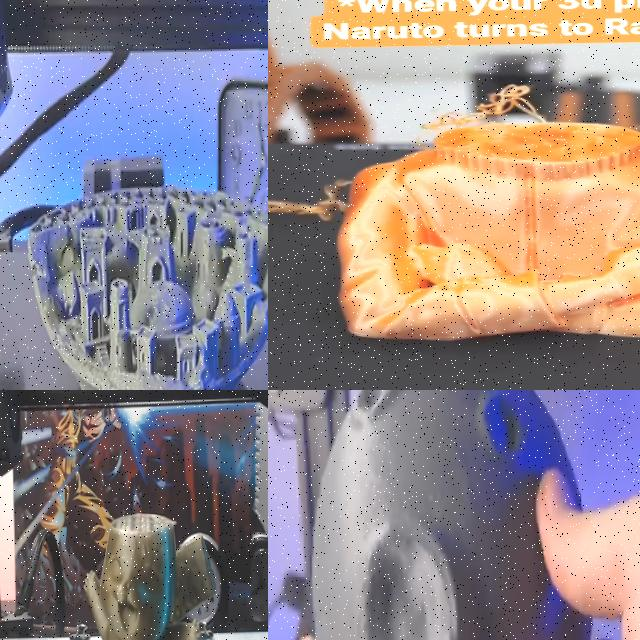spaghetti: (408, 75, 578, 136), (268, 179, 372, 234)
